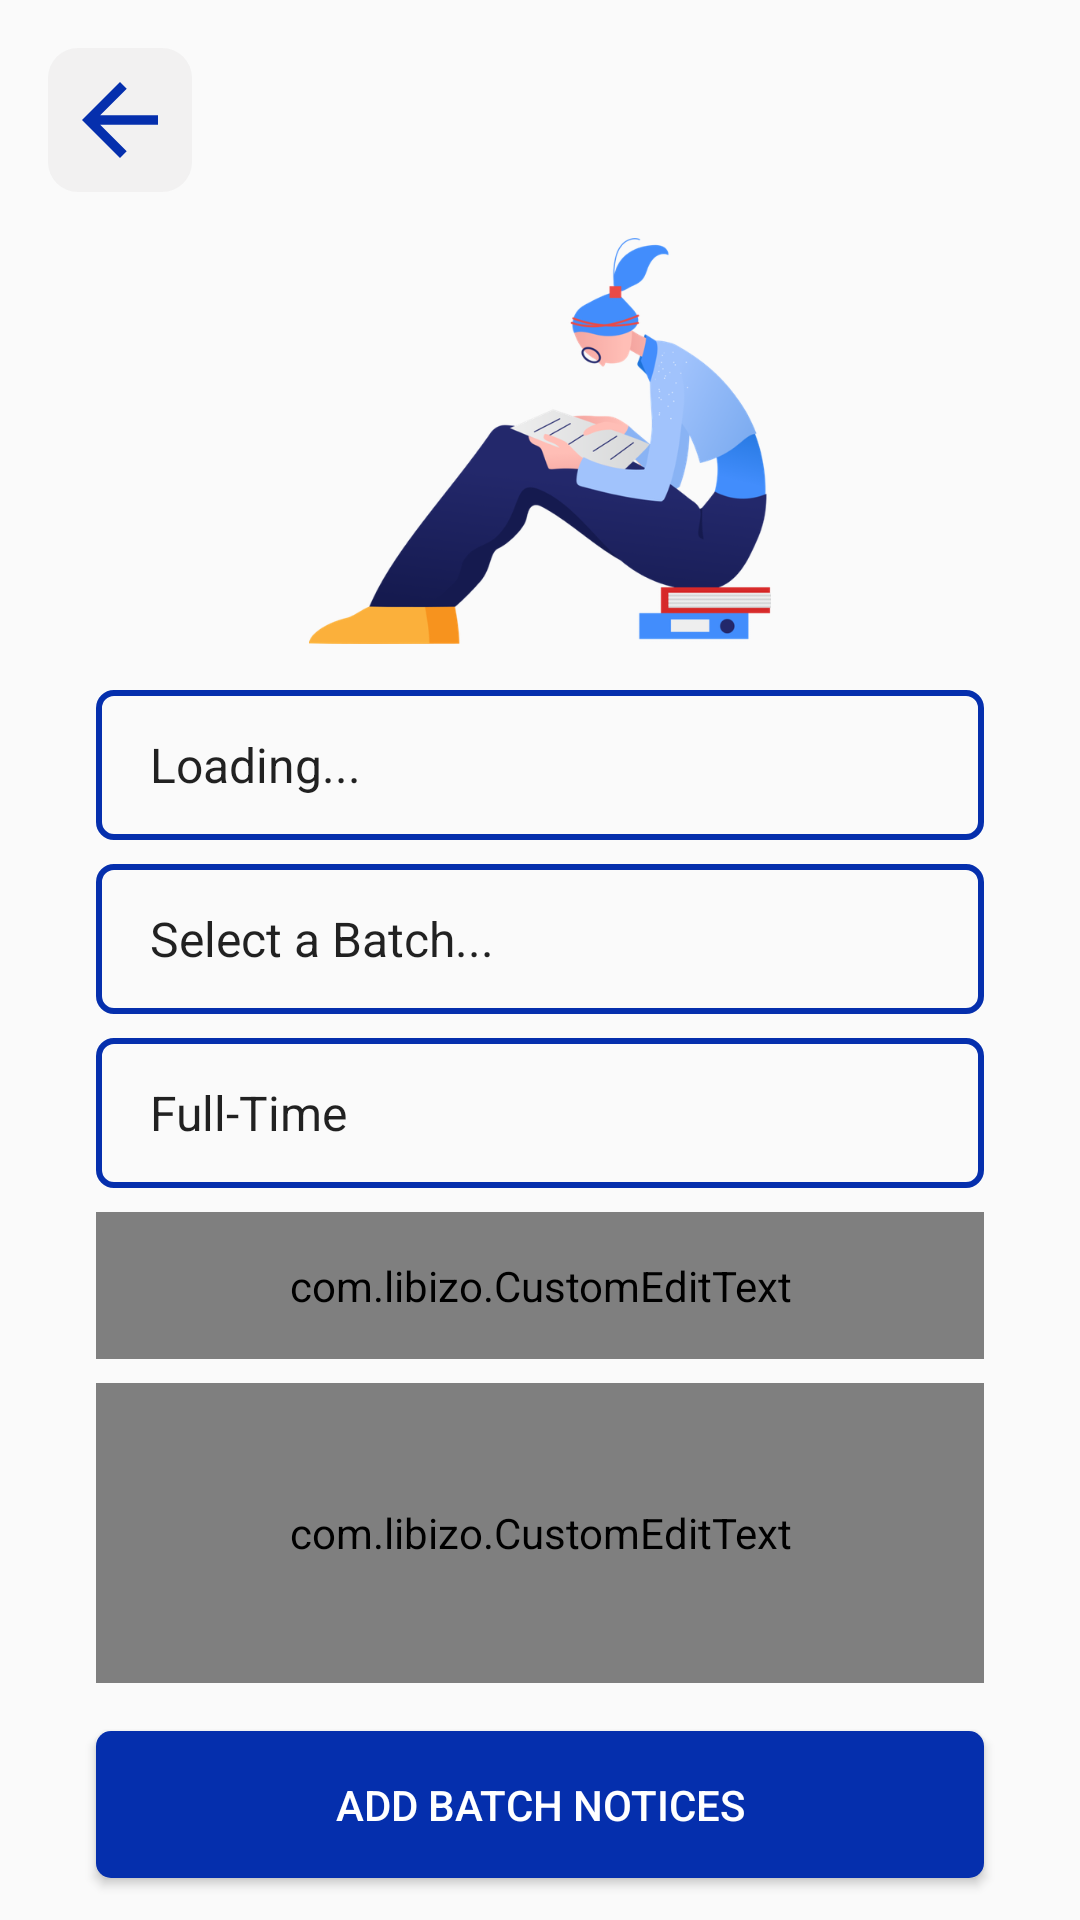

Icons on this 1080px x 1920px Android screen, each with the point to tap as (x,y):
back: (120,120)
